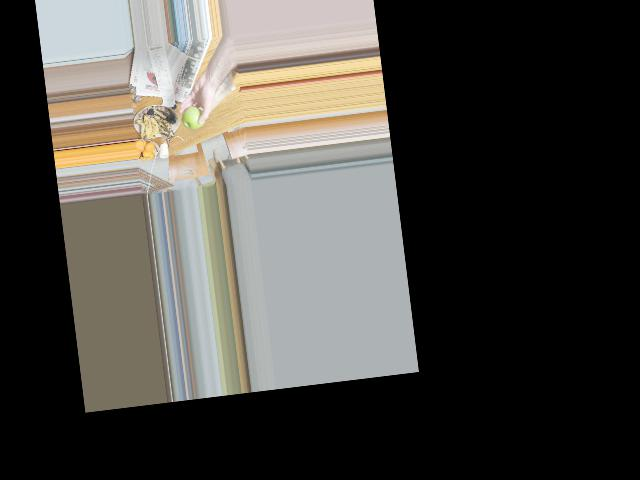apple: (180, 103, 207, 131)
